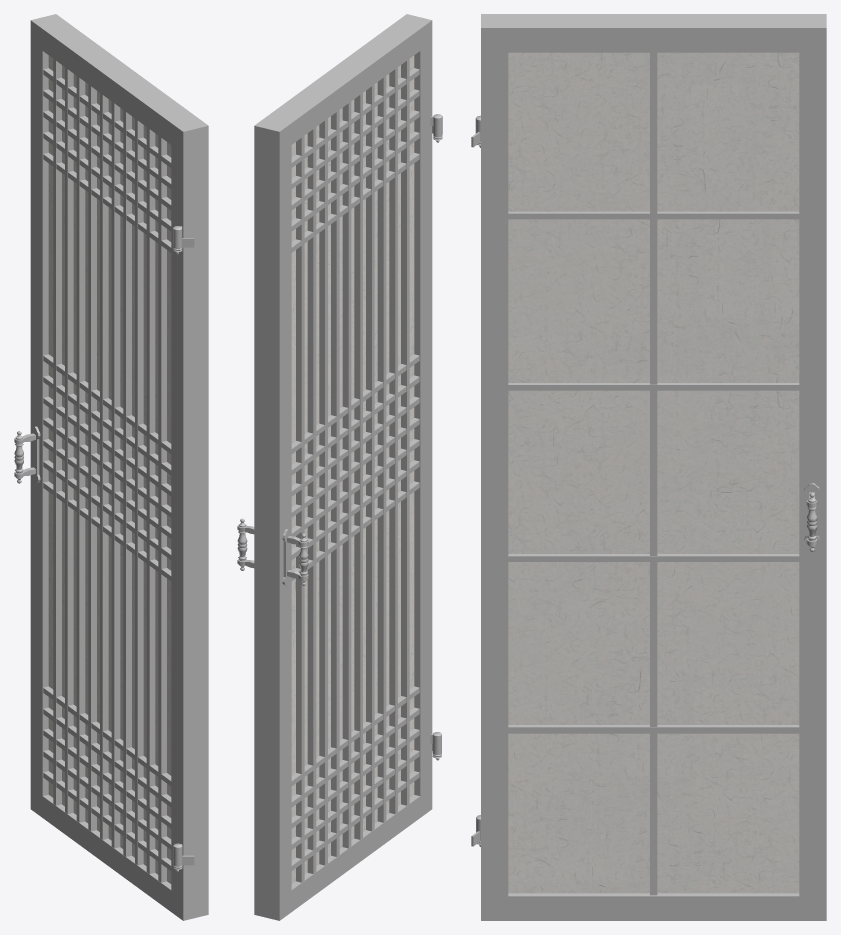
Rendered from SM_Door20M.fbx.
The picture shows the model from 3 angles, left to right: view 1: azimuth 30°, elevation 25°; view 2: azimuth 150°, elevation 25°; view 3: azimuth 270°, elevation 25°; orthographic projection. The views are drawn at different scales.
Visible parts, largest first — view 1: SM_Door20M; view 2: SM_Door20M; view 3: SM_Door20M.
Boxes of the visible parts, bbox=[...] form: SM_Door20M: bbox=[14, 14, 208, 920]; SM_Door20M: bbox=[237, 14, 442, 920]; SM_Door20M: bbox=[471, 14, 826, 920].
Bounding box in the file's own units: 12.78 × 50.46 × 140.
